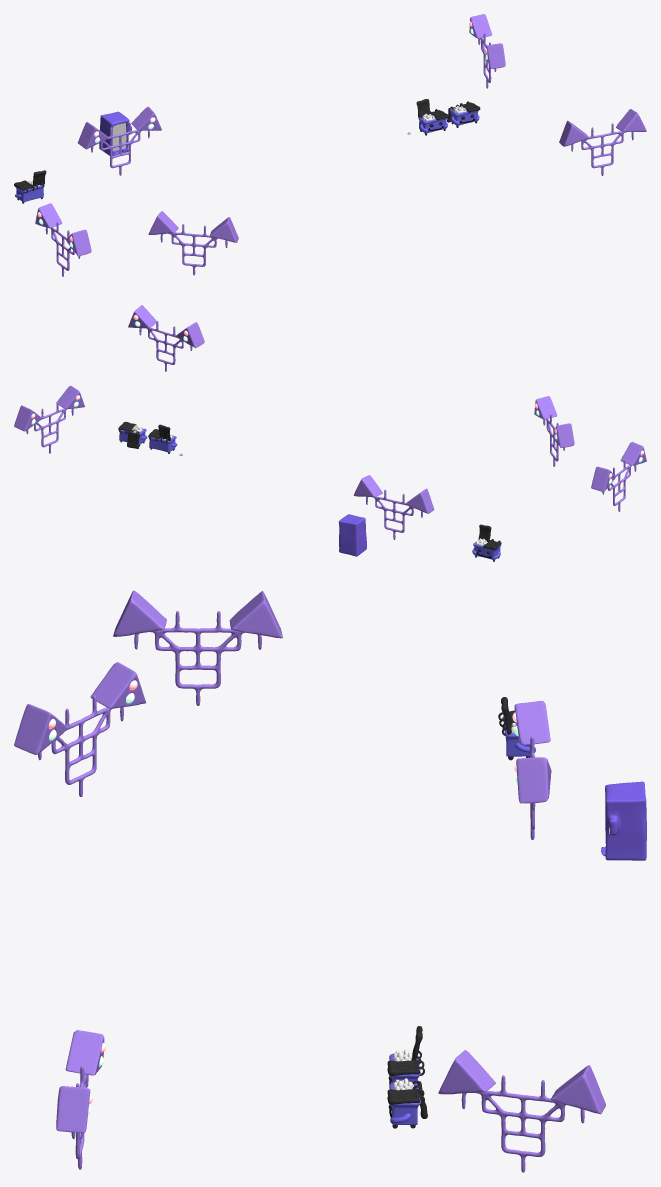
The model's file is trafficlights.glb.
3 renders of one model, top to bottom at view 1: azimuth 30°, elevation 25°; view 2: azimuth 150°, elevation 25°; view 3: azimuth 270°, elevation 25°, orthographic. The views are drawn at different scales.
Visible parts, largest first — view 1: Retopo_Layer_4.003, Retopo_Layer_4.005, Retopo_Layer_4.004, Retopo_Layer_4.007, Retopo_Layer_4.002, Retopo_Layer_2.013; view 2: Retopo_Layer_4.004, Retopo_Layer_4.003, Retopo_Layer_4.002, Retopo_Layer_4.007, Retopo_Layer_4.005, Retopo_Layer_2.013; view 3: Retopo_Layer_4.002, Retopo_Layer_4.007, Retopo_Layer_4.005, Retopo_Layer_2.013, Retopo_Layer_4.003, Retopo_Layer_4.004.
Boxes of the visible parts, x1,y1,x2,y2 form: Retopo_Layer_4.003: (559, 109, 646, 175); Retopo_Layer_4.005: (148, 211, 238, 275); Retopo_Layer_4.004: (77, 106, 161, 175); Retopo_Layer_4.007: (35, 203, 91, 276); Retopo_Layer_4.002: (469, 14, 505, 88); Retopo_Layer_2.013: (99, 111, 131, 155); Retopo_Layer_4.004: (353, 475, 434, 539); Retopo_Layer_4.003: (128, 305, 204, 371); Retopo_Layer_4.002: (14, 386, 84, 453); Retopo_Layer_4.007: (591, 442, 646, 511); Retopo_Layer_4.005: (534, 396, 574, 466); Retopo_Layer_2.013: (338, 514, 366, 556); Retopo_Layer_4.002: (438, 1050, 605, 1172); Retopo_Layer_4.007: (113, 590, 282, 705); Retopo_Layer_4.005: (14, 662, 145, 796); Retopo_Layer_2.013: (601, 781, 646, 860); Retopo_Layer_4.003: (56, 1030, 104, 1169); Retopo_Layer_4.004: (514, 701, 551, 839).
Bounding box in the file's own units: 169 × 17.24 × 89.16.
